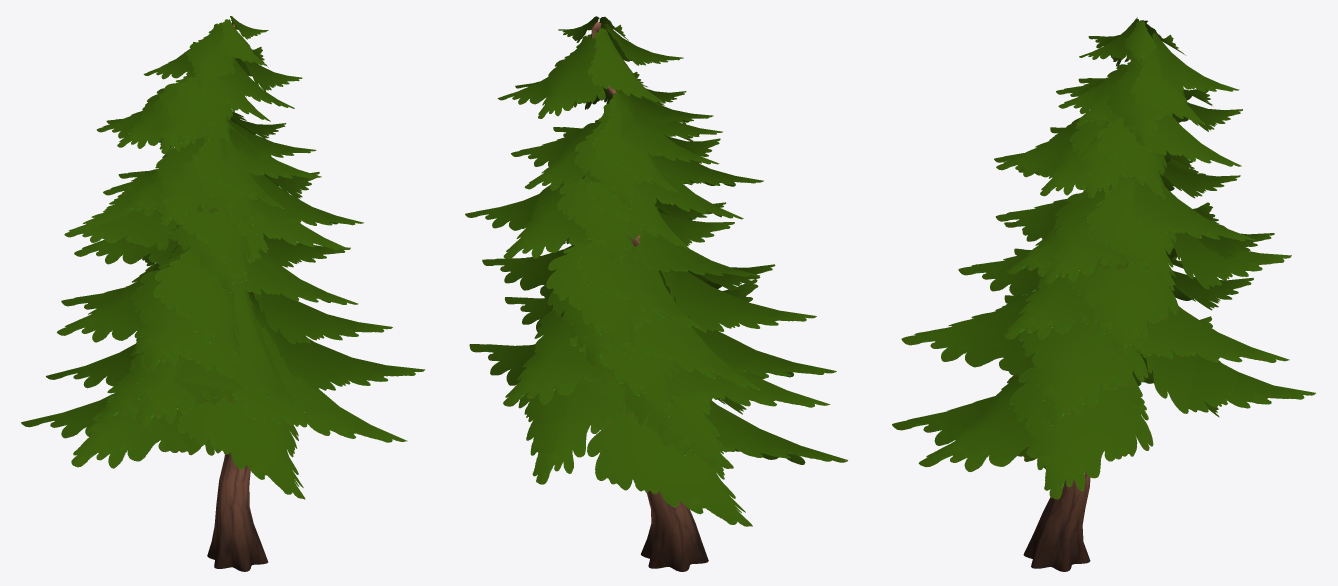
File: sn_pine_5.glb
3 renders of one model, left to right at view 1: azimuth 30°, elevation 25°; view 2: azimuth 150°, elevation 25°; view 3: azimuth 270°, elevation 25°, orthographic. The views are drawn at different scales.
Parts seen in each view (by area): view 1: Pine_5; view 2: Pine_5; view 3: Pine_5.
Part boxes in pixels (left/top/right/bottom): Pine_5: left=21, top=16, right=425, bottom=571; Pine_5: left=465, top=16, right=847, bottom=571; Pine_5: left=892, top=17, right=1315, bottom=571.
Bounding box in the file's own units: 6.42 × 8.72 × 6.22.
Materials: 2 (2 with a texture image).
